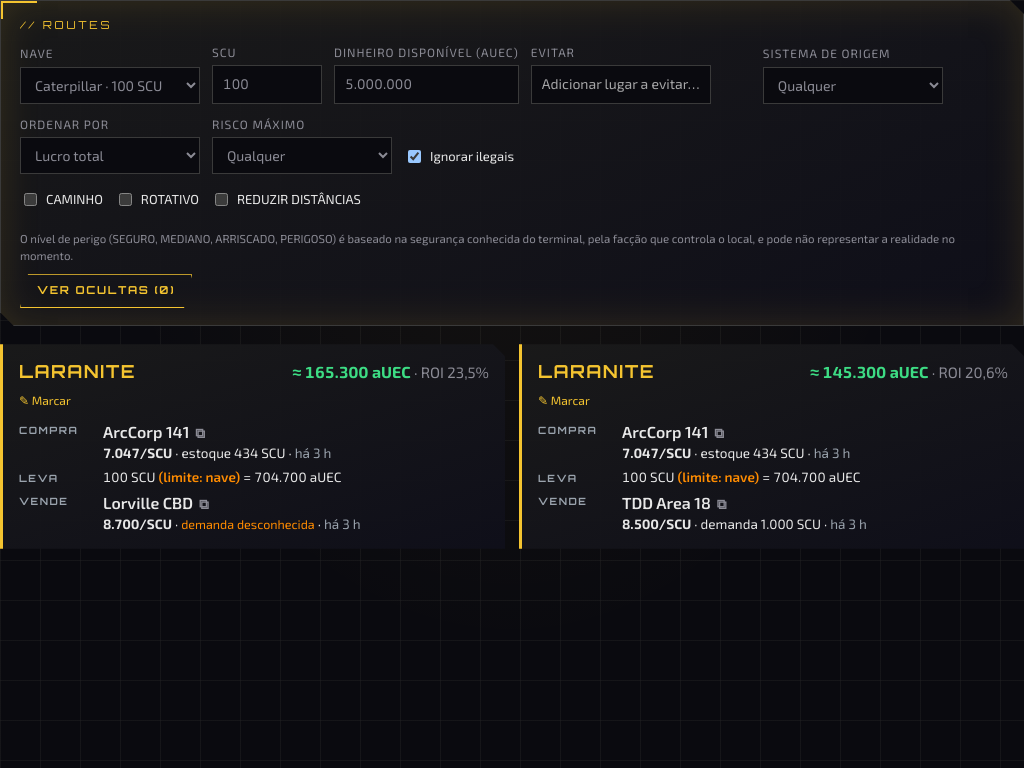
CAMINHO, ROTATIVO e REDUZIR DISTÂNCIAS › REDUZIR DISTÂNCIAS reordena por lucro por Gm quando as distâncias chegam
Expected: the element that starts with "Laranite" shows "Lorville CBD", [103,493,193,512]
Click the checkbox labelled "REDUZIR DISTÂNCIAS" at (222, 200), box [215,193,228,206]
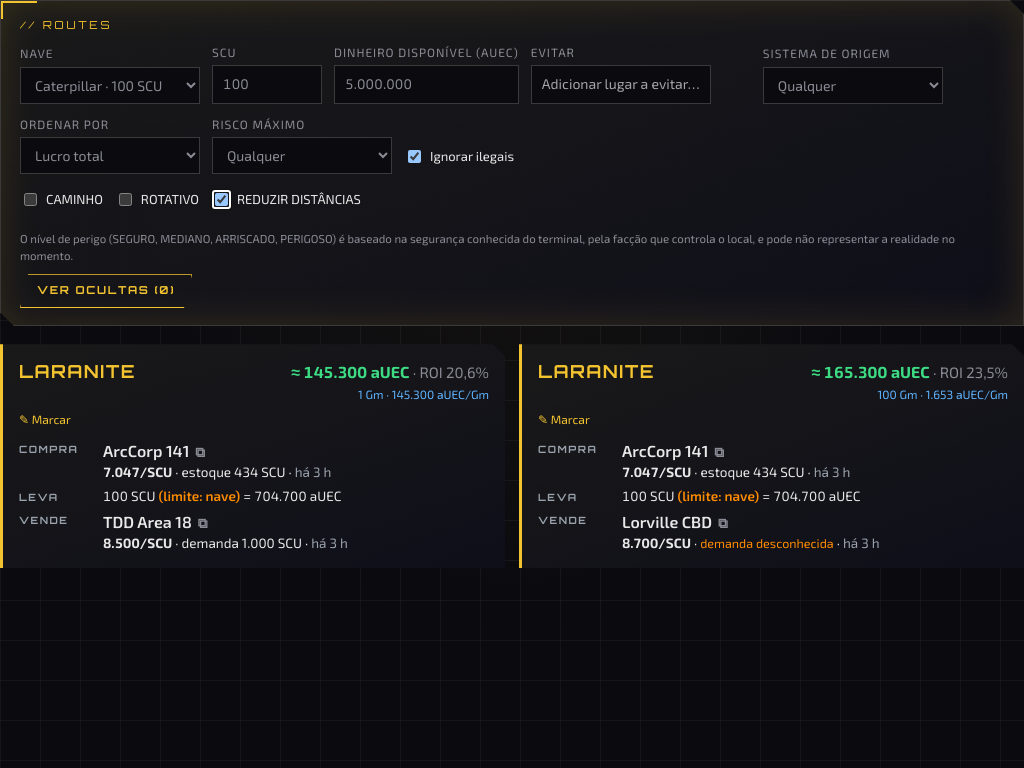
Expected: the element that starts with "Laranite" shows "TDD Area 18", [103,512,192,531]
Result: the element that starts with "Laranite" shows "1 Gm" at [0,344,505,568]
Result: the element that starts with "Laranite" shows "aUEC/Gm" at [434,387,489,401]
